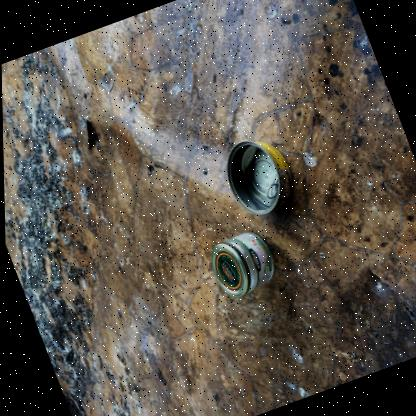Glass: (209, 230, 272, 296)
Metal: (225, 139, 291, 213), (209, 241, 249, 296), (266, 182, 277, 197), (267, 183, 274, 195)
